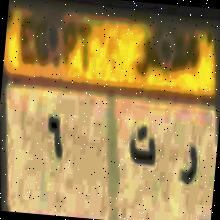6: (40, 108, 70, 160)
raa: (178, 141, 202, 189)
taa: (127, 122, 162, 174)
